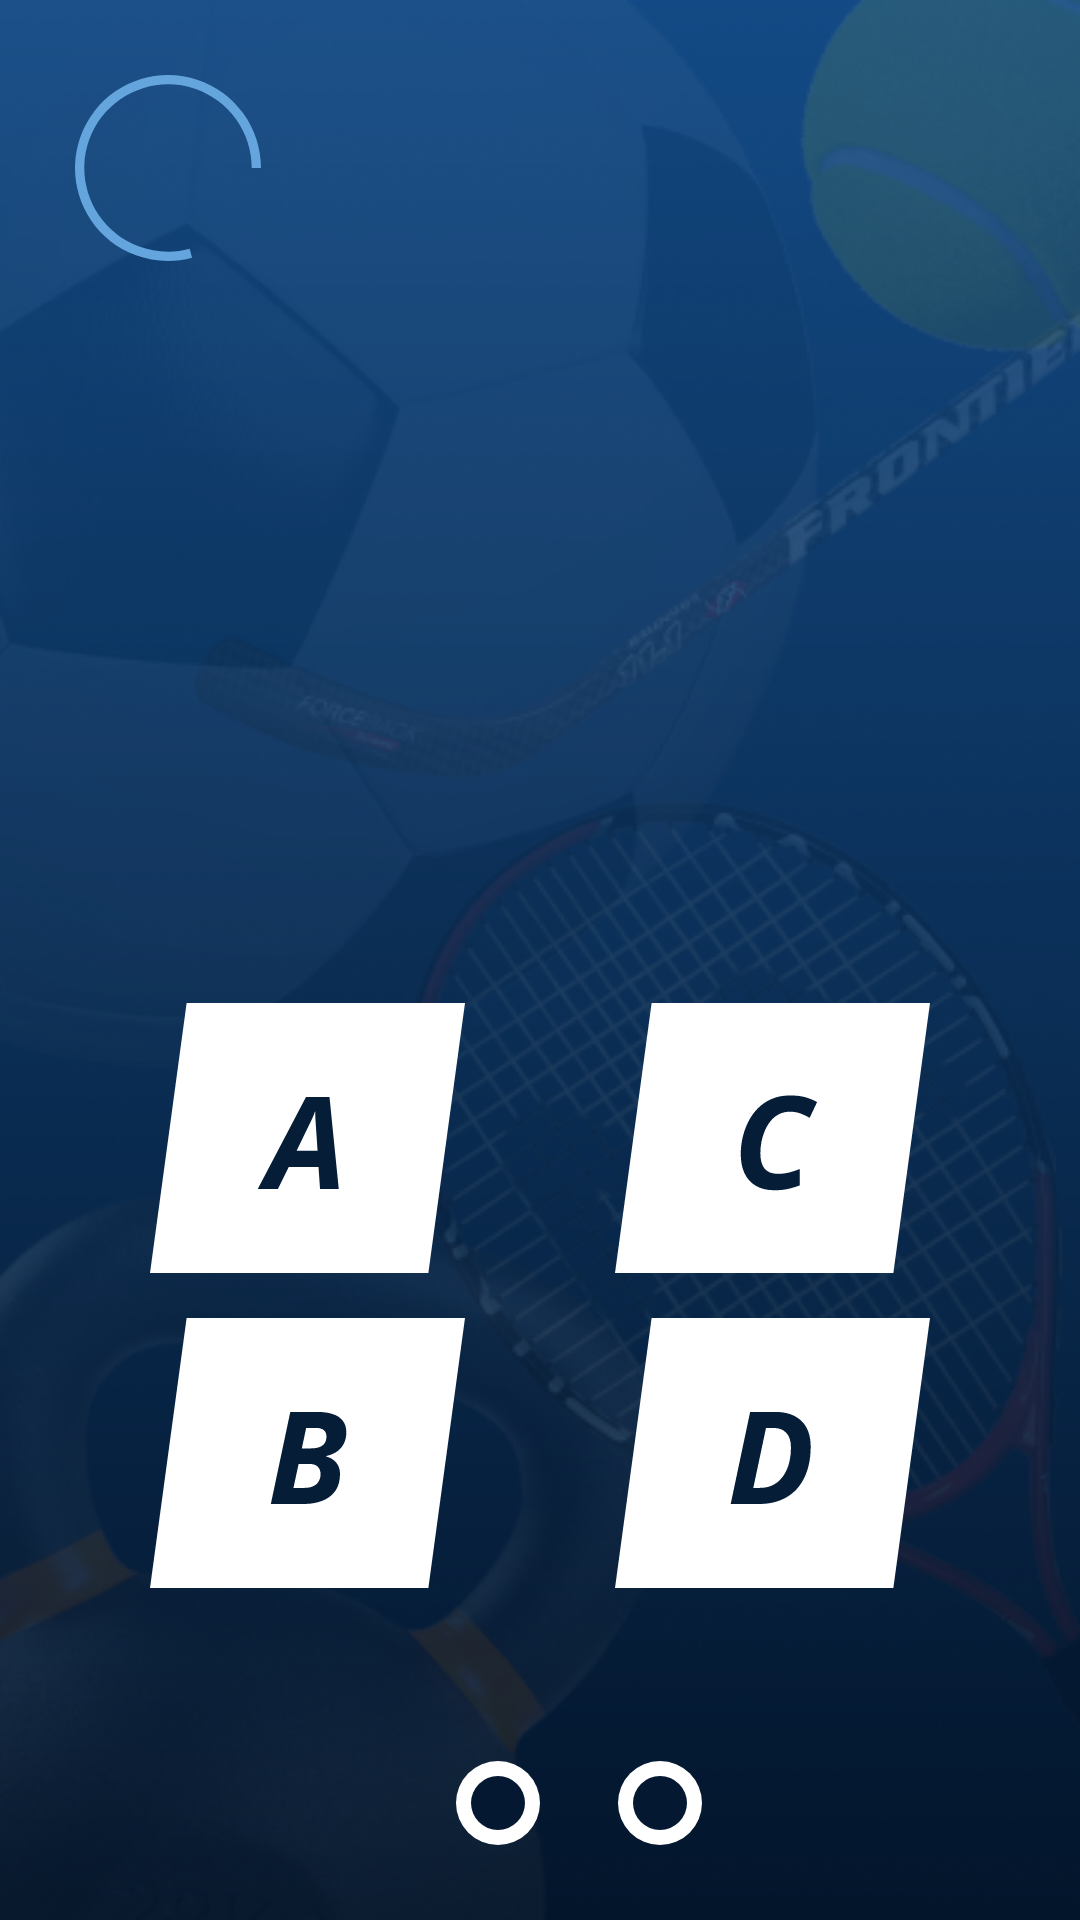

Icon click points for this 1080w x 1920h phone screenshot, format point (x, y):
circle: point (498, 1803), point (660, 1803)
